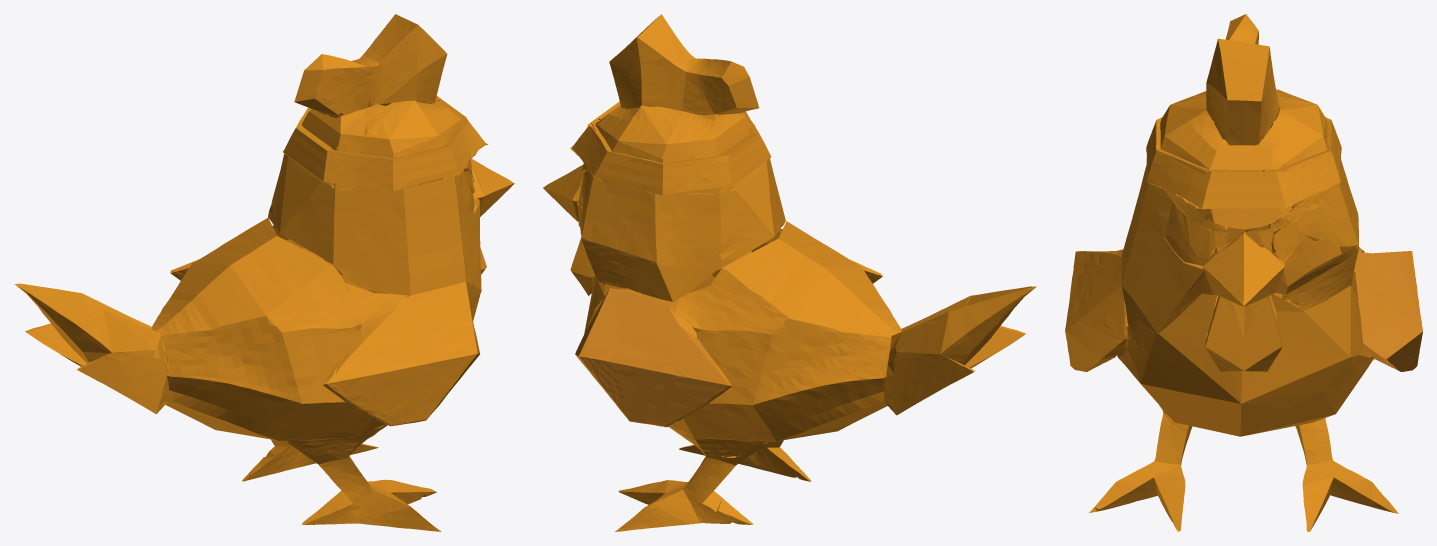
The model's file is angry-chicken.glb.
3 renders of one model, left to right at view 1: azimuth 30°, elevation 25°; view 2: azimuth 150°, elevation 25°; view 3: azimuth 270°, elevation 25°, orthographic. The views are drawn at different scales.
Parts seen in each view (by area): view 1: tripo_part_9, tripo_part_7, tripo_part_0, tripo_part_4, tripo_part_2, tripo_part_12, tripo_part_3, tripo_part_1, tripo_part_10, tripo_part_5; view 2: tripo_part_9, tripo_part_7, tripo_part_11, tripo_part_4, tripo_part_2, tripo_part_12, tripo_part_3, tripo_part_10, tripo_part_1, tripo_part_5, tripo_part_6; view 3: tripo_part_7, tripo_part_9, tripo_part_3, tripo_part_12, tripo_part_2, tripo_part_11, tripo_part_0, tripo_part_6, tripo_part_1, tripo_part_10, tripo_part_5, tripo_part_13.
Part boxes in pixels (x1,y1,x2,y2): tripo_part_9: (152,218,481,458); tripo_part_7: (268,153,481,307); tripo_part_0: (322,282,479,426); tripo_part_4: (15,283,168,414); tripo_part_2: (294,14,447,126); tripo_part_12: (283,96,485,192); tripo_part_3: (282,99,488,189); tripo_part_1: (287,439,441,531); tripo_part_10: (242,439,378,481); tripo_part_5: (445,158,514,216); tripo_part_9: (584,221,900,457); tripo_part_7: (578,159,785,301); tripo_part_11: (575,288,732,427); tripo_part_4: (884,286,1036,415); tripo_part_2: (609,14,759,125); tripo_part_12: (572,101,771,197); tripo_part_3: (570,102,770,194); tripo_part_10: (615,426,768,531); tripo_part_1: (679,440,811,481); tripo_part_5: (543,165,583,221); tripo_part_6: (570,237,594,295); tripo_part_7: (1121,120,1358,350); tripo_part_9: (1117,204,1373,436); tripo_part_3: (1146,89,1340,212); tripo_part_12: (1146,109,1341,209); tripo_part_2: (1206,14,1279,145); tripo_part_11: (1355,251,1422,371); tripo_part_0: (1065,249,1127,372); tripo_part_6: (1204,296,1281,371); tripo_part_1: (1089,411,1192,531); tripo_part_10: (1295,418,1398,531); tripo_part_5: (1203,228,1284,306); tripo_part_13: (1164,184,1320,235).
Bounding box in the file's own units: 1 × 0.87 × 0.5709.
Materials: 14 (14 with a texture image).
